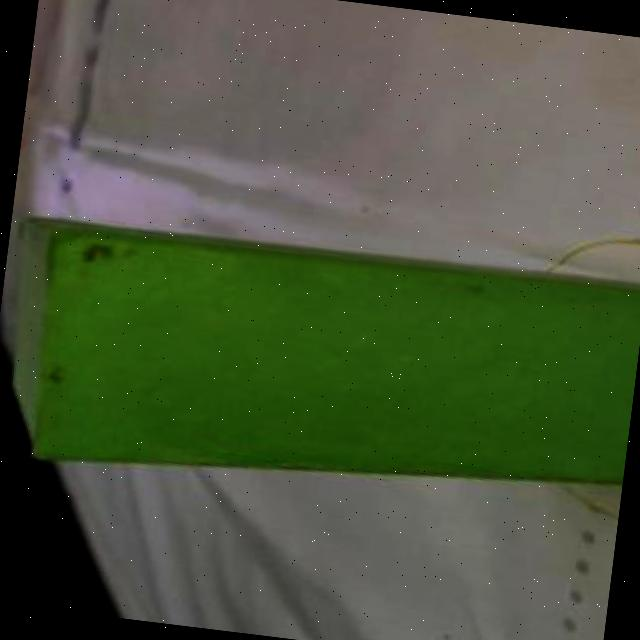greenbox: (0, 208, 640, 532)
